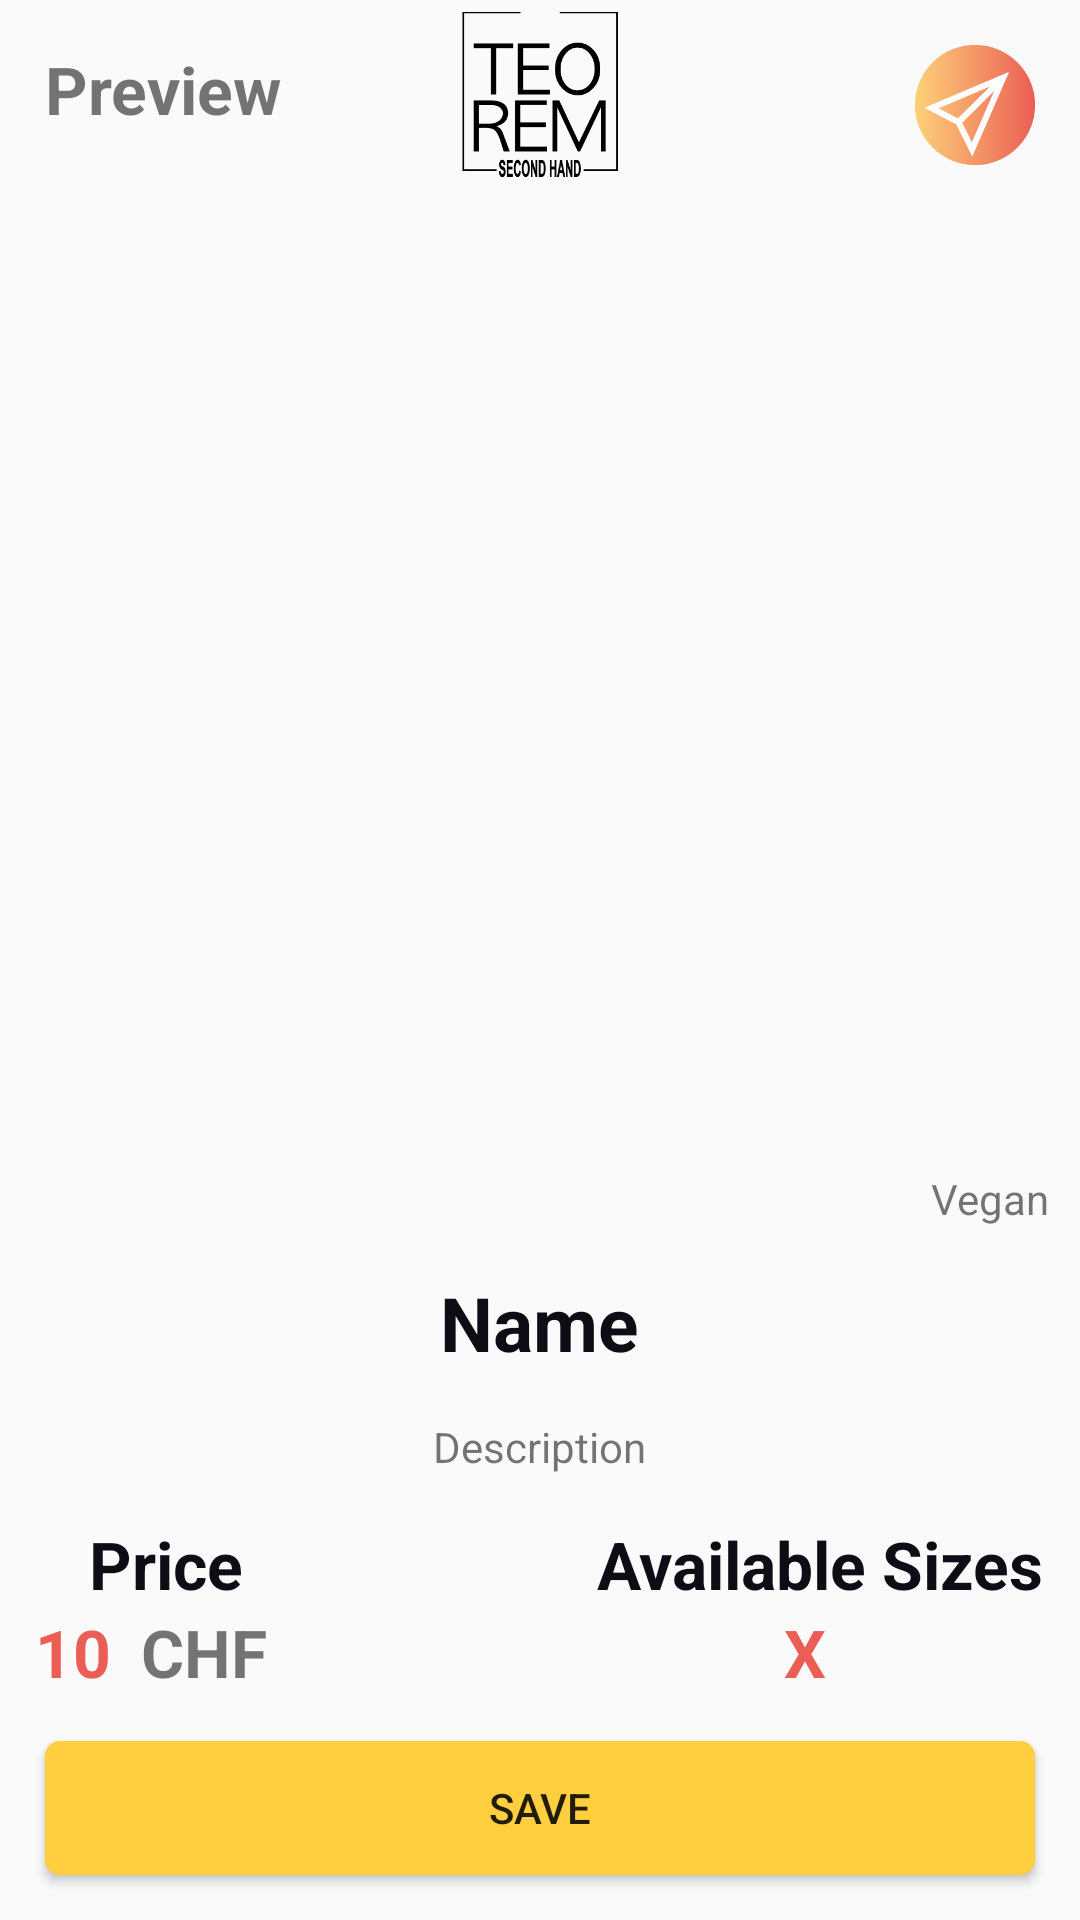

Icon click points for this 1080*1920 phone screenshot, format [x,y]:
message: [975,105]
